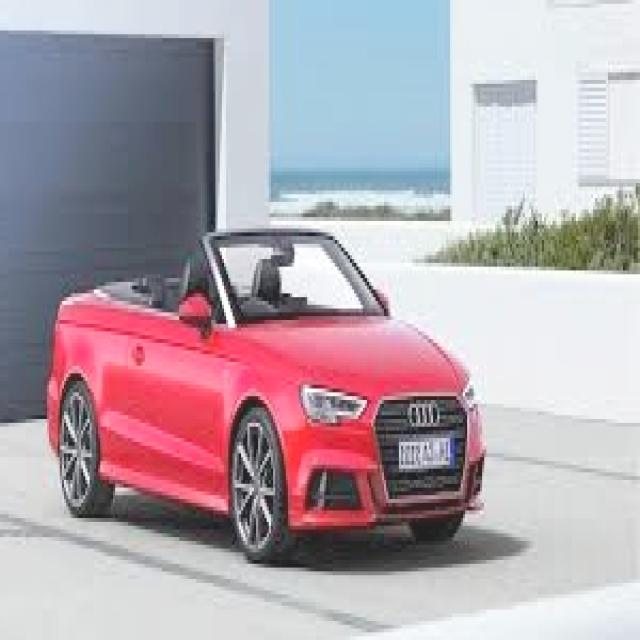red: (60, 230, 494, 542)
